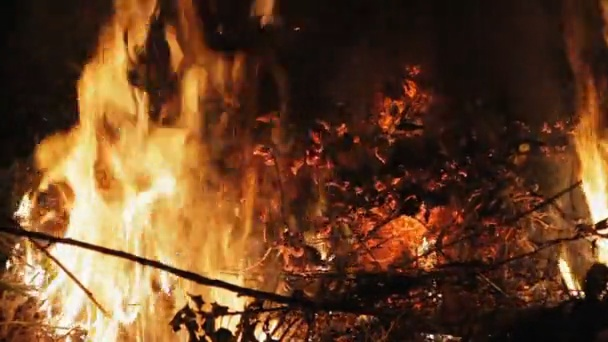fire: (7, 1, 253, 342), (572, 111, 608, 231), (559, 259, 584, 296), (254, 314, 281, 342)
